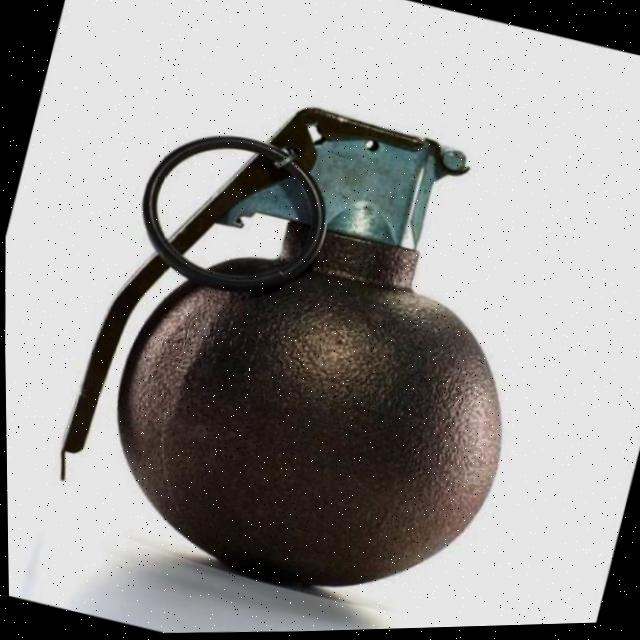grenade: (1, 47, 601, 640)
